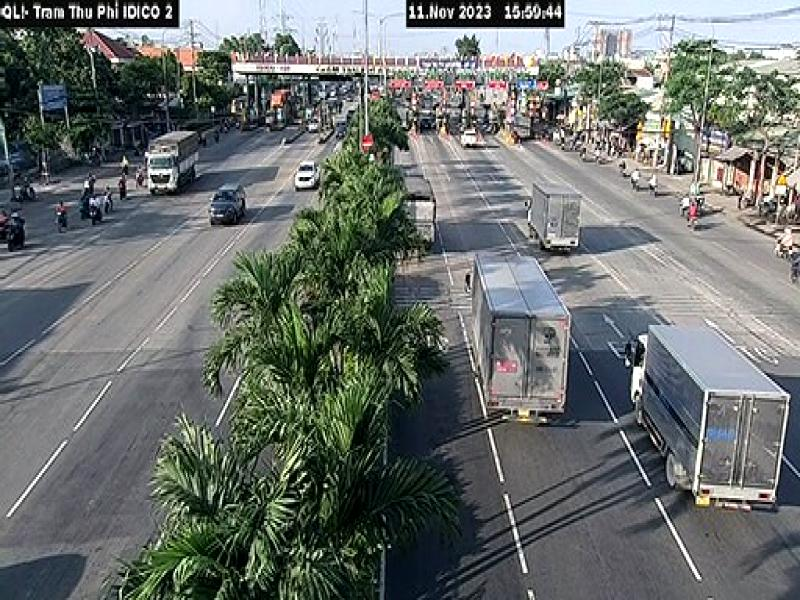truck: (623, 321, 790, 515), (464, 248, 573, 430), (525, 177, 584, 257), (144, 125, 198, 199), (397, 172, 436, 254)
